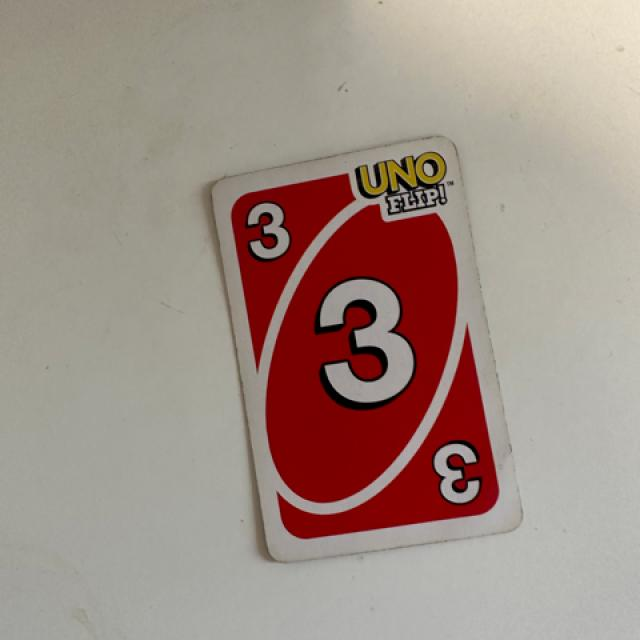lred-3: (237, 186, 306, 282)
